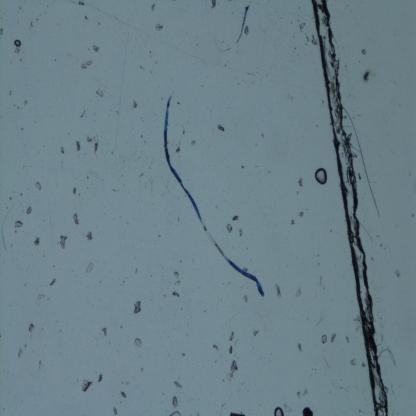Air bubble: (313, 168, 328, 185), (275, 406, 283, 416), (14, 38, 22, 47)
Background material: (235, 5, 253, 45), (171, 266, 181, 300), (359, 66, 376, 85), (175, 127, 185, 156), (131, 299, 143, 317), (228, 331, 236, 356), (79, 56, 93, 70), (292, 281, 302, 299), (295, 387, 310, 399), (272, 283, 282, 300), (230, 360, 238, 381), (349, 354, 359, 370), (229, 408, 248, 416), (59, 234, 68, 250), (154, 21, 166, 33), (172, 377, 182, 391), (84, 262, 94, 276), (82, 378, 92, 392), (170, 394, 180, 408), (100, 324, 110, 338), (320, 332, 329, 347), (215, 122, 226, 134), (310, 34, 320, 47), (95, 88, 105, 100), (74, 138, 82, 153), (297, 177, 306, 190), (79, 108, 87, 122), (72, 211, 80, 225), (148, 1, 158, 12), (85, 230, 94, 242), (36, 355, 43, 370), (301, 408, 314, 416), (225, 222, 233, 235), (133, 338, 143, 348), (300, 18, 307, 32), (50, 276, 57, 290), (94, 140, 100, 156), (26, 205, 34, 217), (330, 332, 338, 344), (130, 99, 138, 111), (97, 371, 104, 384), (85, 134, 94, 144), (110, 184, 119, 194), (232, 213, 240, 224), (132, 265, 140, 276), (59, 144, 66, 156), (71, 184, 77, 198), (14, 219, 23, 228), (91, 43, 100, 52), (242, 293, 250, 303), (80, 12, 90, 20), (296, 342, 304, 352), (213, 342, 221, 352), (169, 410, 182, 416), (34, 236, 40, 249), (120, 389, 127, 400), (288, 218, 297, 226), (298, 210, 306, 219), (34, 182, 42, 191), (27, 323, 35, 332), (112, 405, 119, 415), (27, 19, 34, 29), (36, 294, 46, 301), (18, 347, 24, 358), (191, 136, 197, 147), (210, 1, 217, 10), (13, 47, 21, 54), (77, 0, 85, 7), (252, 330, 258, 339), (238, 229, 243, 238), (23, 98, 28, 107), (180, 350, 186, 357), (138, 64, 144, 70), (176, 100, 181, 106), (9, 88, 12, 96), (97, 20, 101, 25), (148, 50, 152, 54)
Cotton: (164, 96, 265, 297)
Edge of slide: (311, 0, 416, 416)
Glass filter fibre: (0, 201, 15, 252)
